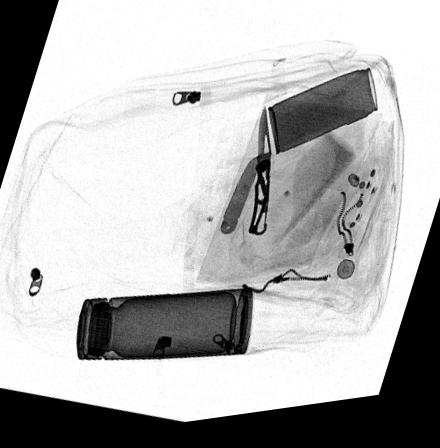Knife: (219, 162, 263, 241), (248, 111, 272, 243)
